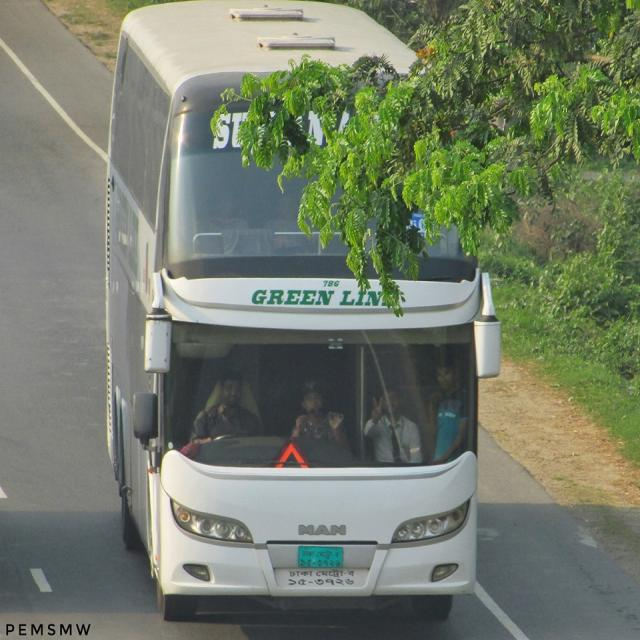bus: (104, 2, 501, 624)
